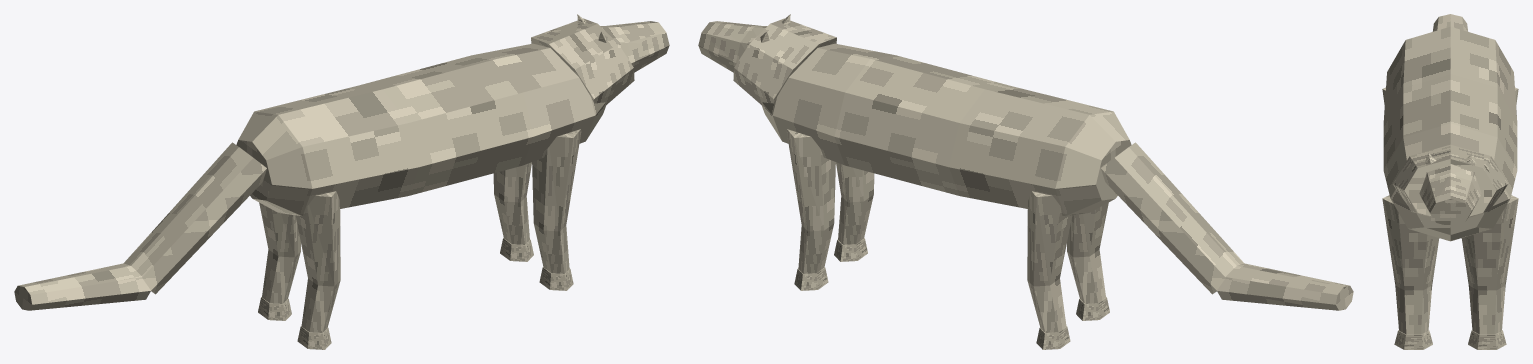
Rendered from leopardo_nieves.glb.
3 renders of one model, left to right at view 1: azimuth 30°, elevation 25°; view 2: azimuth 150°, elevation 25°; view 3: azimuth 270°, elevation 25°, orthographic. The views are drawn at different scales.
Parts seen in each view (by area): view 1: cuerpo, cola, pata_delantera_der, pata_trasera_der, cuello, pata_trasera_izq, pata_delantera_izq, cabeza, pezuna_trasera_der, pezuna_delantera_der, pezuna_delantera_izq, pezuna_trasera_izq; view 2: cuerpo, cola, pata_delantera_izq, pata_trasera_izq, cuello, pata_trasera_der, pata_delantera_der, cabeza, pezuna_trasera_izq, pezuna_delantera_izq, pezuna_delantera_der, pezuna_trasera_der; view 3: cuerpo, pata_delantera_izq, pata_delantera_der, cuello, cabeza, pezuna_delantera_izq, pezuna_delantera_der, cola, orejas.
Boxes of the visible parts, x1,y1,x2,y2 form: cuerpo: [236, 43, 606, 216]; cola: [14, 142, 266, 310]; pata_delantera_der: [532, 129, 581, 273]; pata_trasera_der: [295, 191, 340, 332]; cuello: [531, 18, 634, 106]; pata_trasera_izq: [259, 202, 300, 303]; pata_delantera_izq: [493, 162, 531, 244]; cabeza: [600, 21, 669, 72]; pezuna_trasera_der: [297, 326, 331, 349]; pezuna_delantera_der: [539, 267, 573, 290]; pezuna_delantera_izq: [500, 238, 533, 261]; pezuna_trasera_izq: [258, 297, 291, 320]; cuerpo: [761, 43, 1131, 216]; cola: [1101, 142, 1353, 310]; pata_delantera_izq: [786, 129, 835, 273]; pata_trasera_izq: [1027, 191, 1072, 332]; cuello: [733, 18, 836, 106]; pata_trasera_der: [1067, 202, 1108, 303]; pata_delantera_der: [836, 162, 874, 244]; cabeza: [698, 21, 767, 72]; pezuna_trasera_izq: [1036, 326, 1070, 349]; pezuna_delantera_izq: [794, 267, 828, 290]; pezuna_delantera_der: [834, 238, 867, 261]; pezuna_trasera_der: [1076, 297, 1109, 320]; cuerpo: [1383, 26, 1517, 241]; pata_delantera_izq: [1461, 195, 1518, 334]; pata_delantera_der: [1382, 195, 1439, 334]; cuello: [1393, 144, 1507, 217]; cabeza: [1419, 164, 1481, 226]; pezuna_delantera_izq: [1468, 330, 1506, 349]; pezuna_delantera_der: [1394, 330, 1432, 349]; cola: [1432, 14, 1468, 31]; orejas: [1424, 152, 1476, 163].
Bounding box in the file's own units: 2 × 0.7 × 0.4.
1 material, 1 textured.
